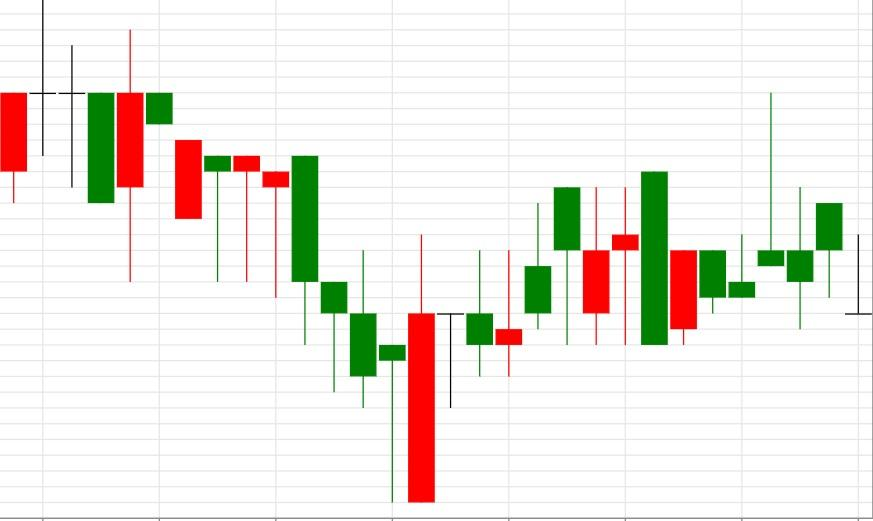bearish_engulfing_fall: (494, 171, 669, 376)
bullish_engulfing_rise: (291, 156, 436, 503)
hammer_rise: (115, 29, 291, 298), (115, 29, 261, 283), (115, 29, 232, 283)
